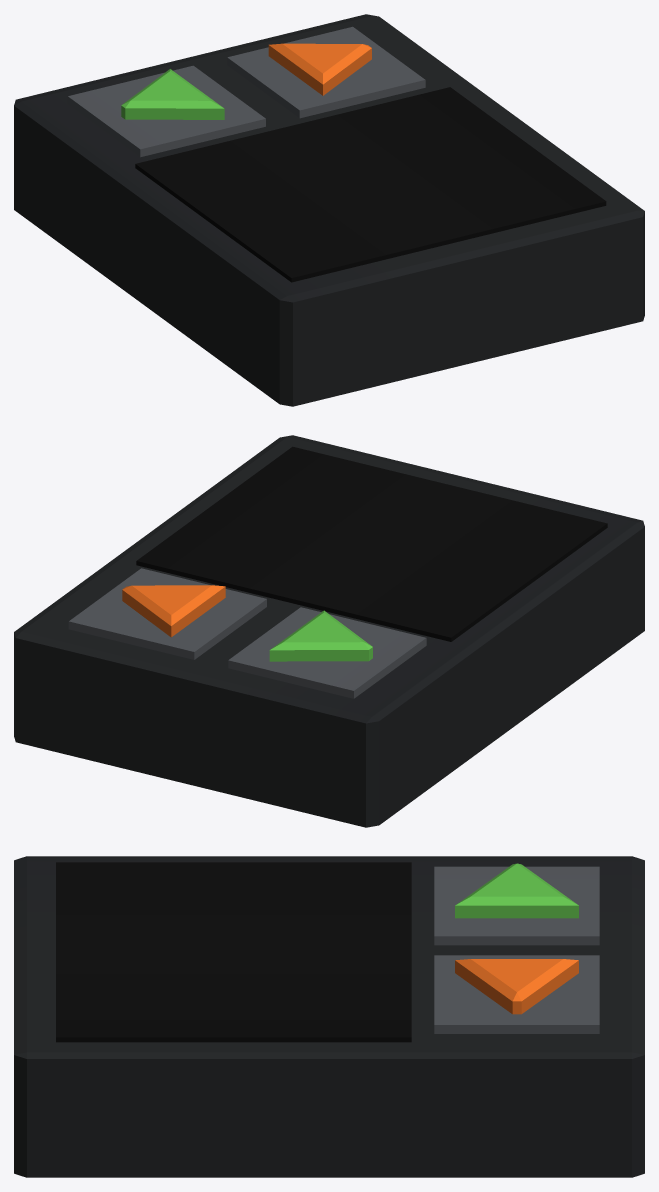
File: Numeric Display.fbx
3 renders of one model, top to bottom at view 1: azimuth 30°, elevation 25°; view 2: azimuth 150°, elevation 25°; view 3: azimuth 270°, elevation 25°, orthographic. The views are drawn at different scales.
Parts seen in each view (by area): view 1: Body, Display, UpButton, DownButton, Cube.007, Cube.004; view 2: Body, Display, UpButton, DownButton, Cube.007, Cube.004; view 3: Body, Display, UpButton, DownButton, Cube.007, Cube.004.
Part boxes in pixels (x1,y1,x2,y2): Body: (14, 14, 644, 406); Display: (135, 87, 606, 282); UpButton: (67, 65, 265, 157); DownButton: (227, 26, 425, 118); Cube.007: (268, 43, 371, 95); Cube.004: (121, 69, 224, 119); Body: (14, 435, 644, 827); Display: (136, 446, 607, 641); UpButton: (228, 607, 426, 698); DownButton: (68, 568, 266, 659); Cube.007: (122, 585, 225, 637); Cube.004: (269, 610, 372, 661); Body: (14, 856, 644, 1177); Display: (56, 862, 411, 1042); UpButton: (434, 866, 599, 945); DownButton: (434, 955, 599, 1033); Cube.007: (455, 959, 578, 1014); Cube.004: (455, 863, 578, 918).
Bounding box in the file's own units: 8.72 × 3.02 × 11.45.
